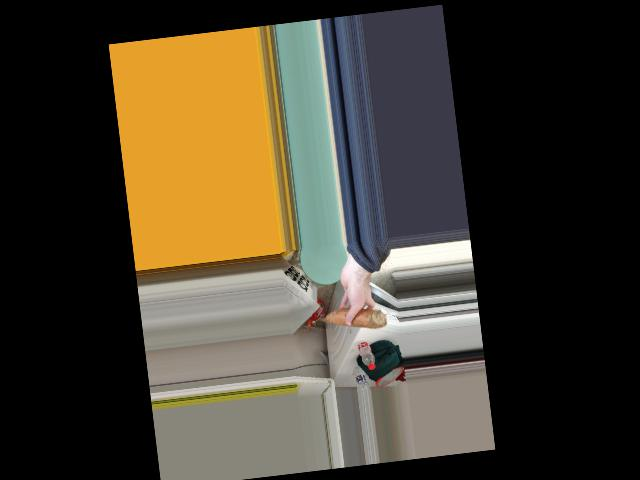sweet_potato: (322, 305, 387, 329)
